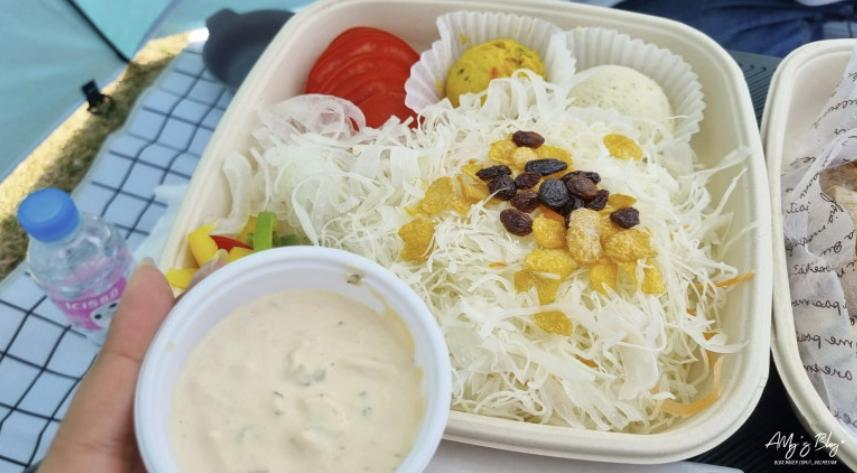Bottle: (17, 188, 133, 344)
Lunch Box: (162, 0, 771, 463), (134, 246, 450, 472), (764, 40, 856, 468), (202, 8, 293, 90)
